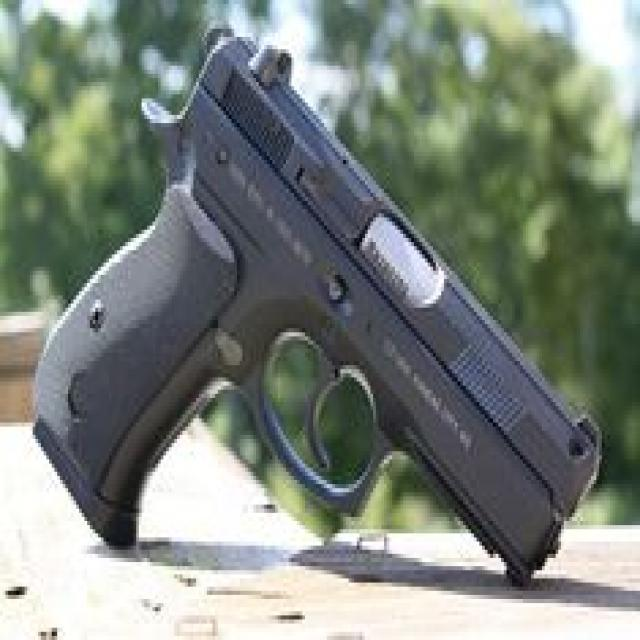semi automatic: (29, 19, 613, 596)
